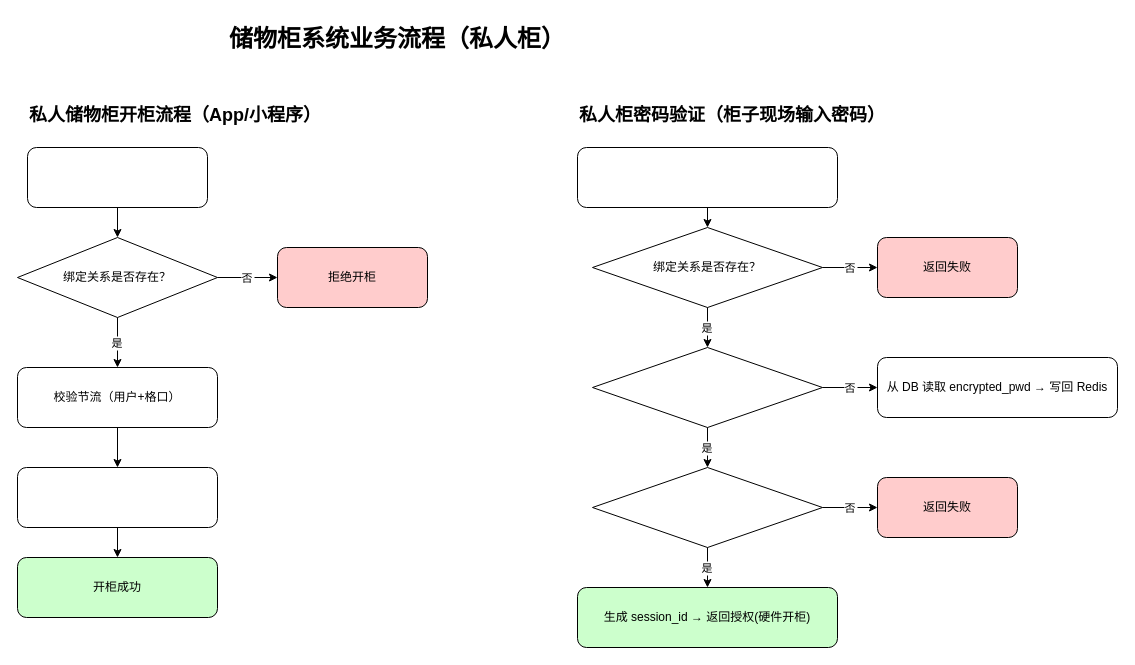
This 1135x665 diagram has some shape labels left out. The centre of each missing label's shape, as x and y in pixels:
"Redis 是否存在密码？" belongs at (x=707, y=387).
"密码是否匹配？" belongs at (x=707, y=507).
"用户选择房屋" belongs at (x=117, y=177).
"设备请求：设备ID + 房间号 + 密码" belongs at (x=707, y=177).
"调用 IoT 开柜" belongs at (x=117, y=497).
